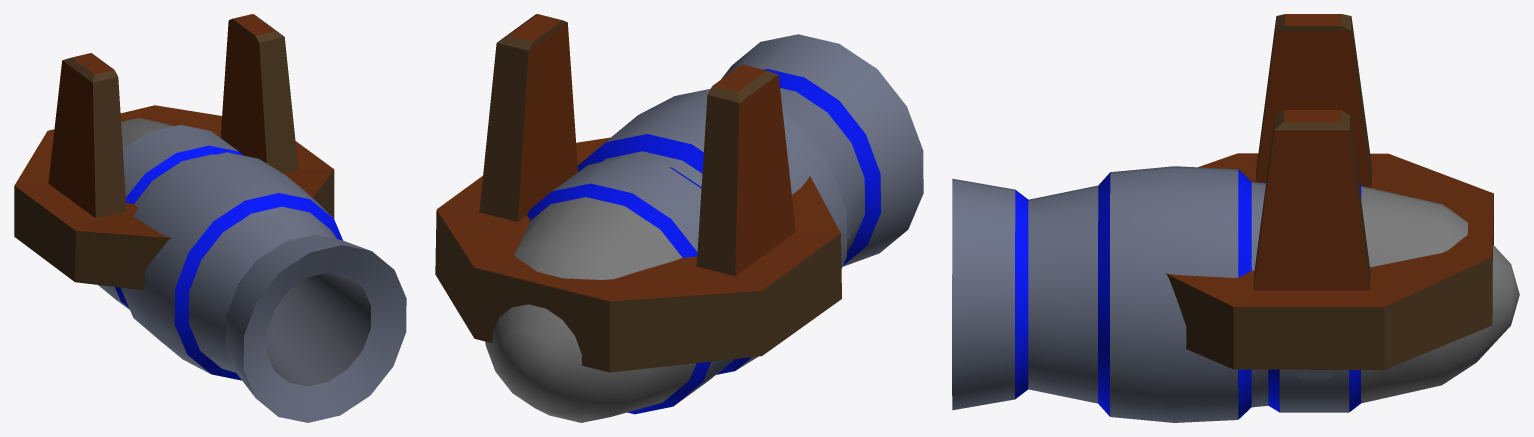
The model's file is Cannon5.fbx.
3 renders of one model, left to right at view 1: azimuth 30°, elevation 25°; view 2: azimuth 150°, elevation 25°; view 3: azimuth 270°, elevation 25°, orthographic. The views are drawn at different scales.
Visible parts, largest first — view 1: Cannon003, Rotater003; view 2: Rotater003, Cannon003; view 3: Cannon003, Rotater003.
Boxes of the visible parts, x1,y1,x2,y2 form: Cannon003: (98,118,406,422); Rotater003: (14,14,334,290); Rotater003: (435,14,841,372); Cannon003: (485,34,923,422); Cannon003: (952,166,1519,422); Rotater003: (1166,14,1493,369).
Size of the model in its own units: 87.01 by 89.08 by 135.
